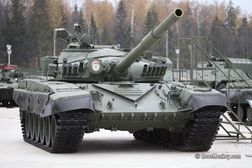t72: (12, 7, 223, 150)
